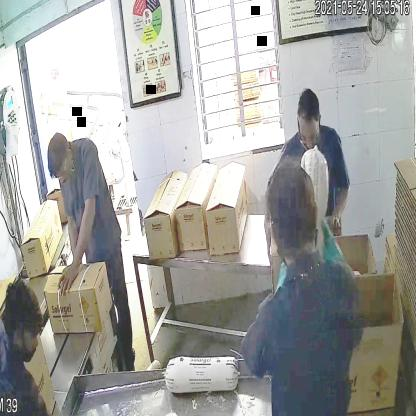goggles: (297, 128, 322, 151), (50, 164, 70, 183)
